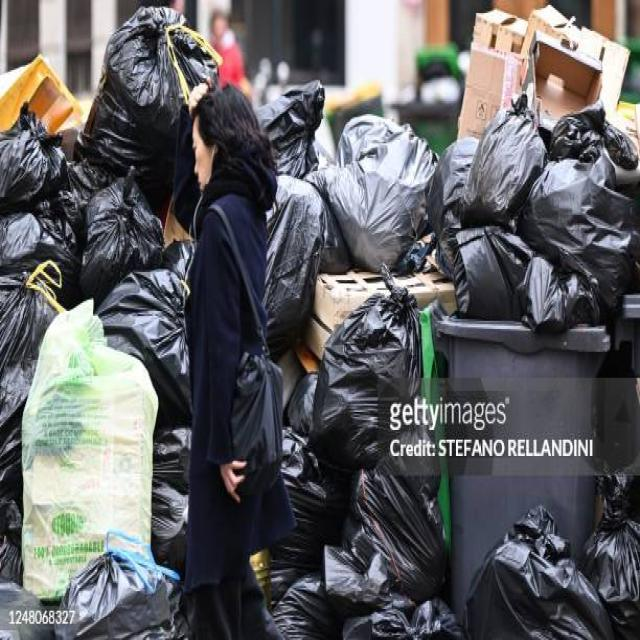cardboard: (450, 32, 603, 124)
trash: (312, 152, 636, 604), (7, 81, 188, 539)
